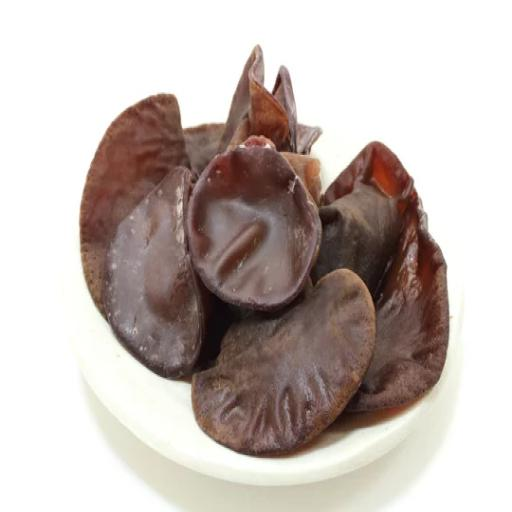Wood Ear Mushroom: (315, 133, 466, 460), (183, 261, 386, 456), (78, 88, 209, 383), (183, 133, 324, 317), (212, 40, 315, 155)
